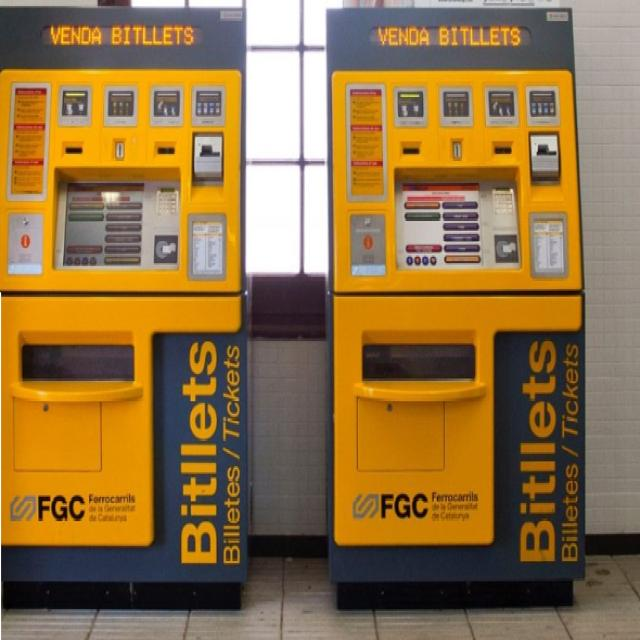tickets-maquina: (327, 9, 584, 608)
